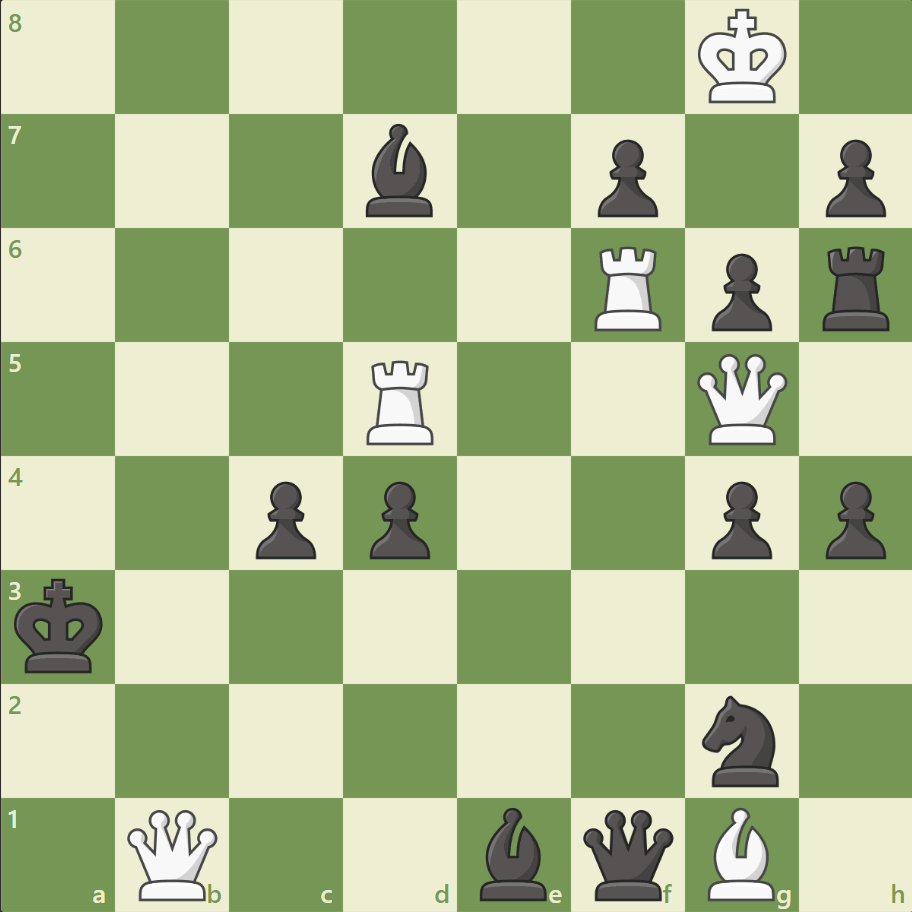B: (698, 801, 782, 904)
K: (692, 4, 792, 112)
Q: (691, 349, 790, 449), (124, 804, 223, 903)
R: (587, 239, 670, 336), (360, 352, 442, 449)
b: (471, 801, 555, 904), (358, 120, 442, 222)
k: (11, 571, 111, 679)
n: (692, 688, 789, 791)
p: (701, 246, 776, 337), (247, 473, 322, 564), (701, 473, 776, 564), (588, 132, 662, 223), (815, 132, 889, 223), (361, 473, 435, 564), (815, 473, 889, 564)
q: (578, 804, 677, 903)
r: (814, 239, 897, 336)
